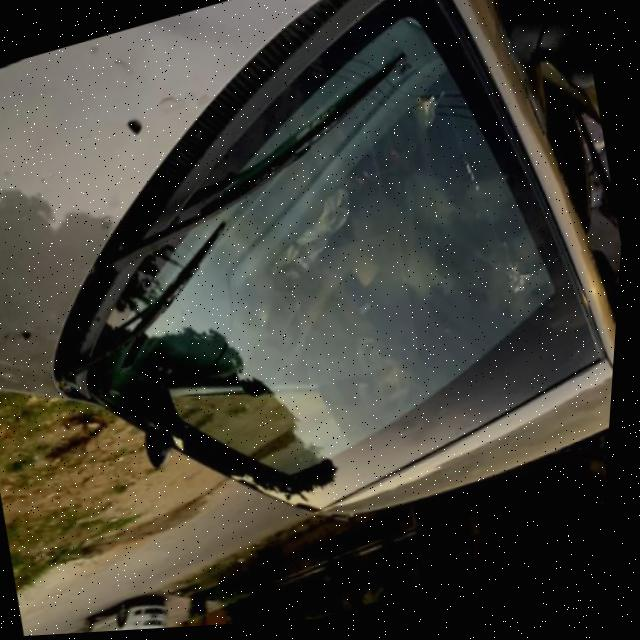no-seatbelt: (285, 233, 430, 393)
